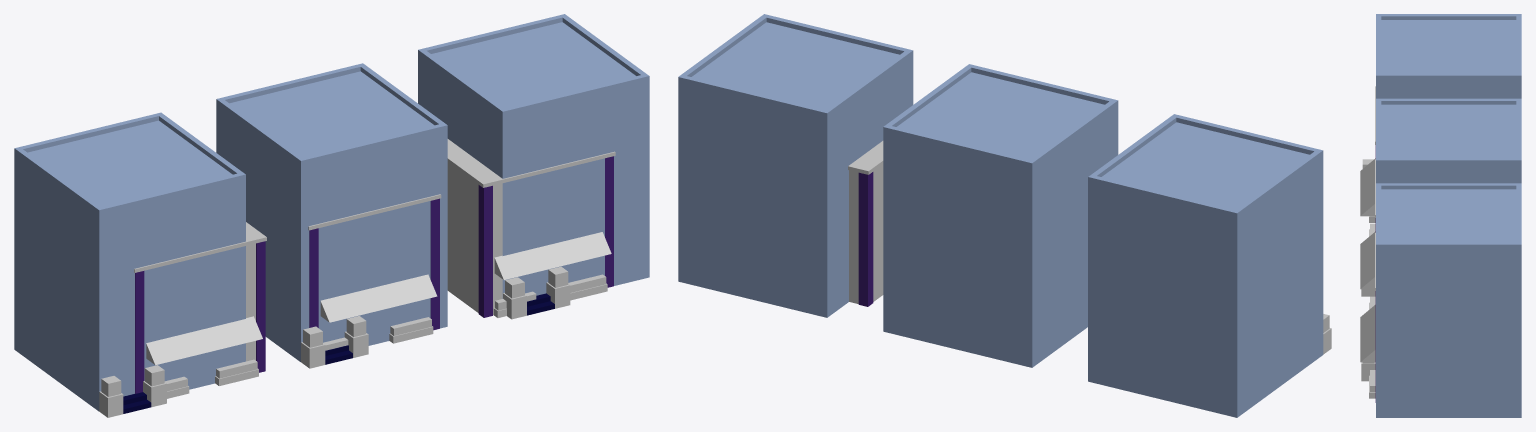
Rendered from Predio.fbx.
3 renders of one model, left to right at view 1: azimuth 30°, elevation 25°; view 2: azimuth 150°, elevation 25°; view 3: azimuth 270°, elevation 25°, orthographic. The views are drawn at different scales.
Visible parts, largest first — view 1: Cube.011, Cube.002, Cube.004, Cube.017, Cube.018, Cube.019, Cube.008, Cube.015, Cube.014, Cube.007, Cube.013, Cube.010 (+6 smaller); view 2: Cube.011, Cube.002, Cube.004, Cube.017, Cube.018; view 3: Cube.004, Cube.002, Cube.011, Cube.019, Cube.008, Cube.015, Cube.000, Cube.020.
Part boxes in pixels (box(x1,y1,x2,y2)): Cube.011: box(14, 112, 245, 411); Cube.002: box(216, 63, 447, 361); Cube.004: box(418, 14, 649, 298); Cube.017: box(447, 139, 615, 315); Cube.018: box(478, 156, 613, 317); Cube.019: box(494, 232, 611, 279); Cube.008: box(320, 274, 437, 322); Cube.015: box(146, 316, 262, 365); Cube.014: box(135, 241, 265, 393); Cube.007: box(309, 198, 439, 330); Cube.013: box(134, 222, 266, 361); Cube.010: box(99, 365, 166, 417); Cube.011: box(1088, 114, 1323, 417); Cube.002: box(883, 64, 1118, 367); Cube.004: box(678, 14, 913, 317); Cube.017: box(848, 141, 883, 303); Cube.018: box(858, 172, 873, 306); Cube.004: box(1376, 183, 1521, 417); Cube.002: box(1376, 98, 1521, 183); Cube.011: box(1376, 14, 1521, 98); Cube.019: box(1360, 304, 1375, 362); Cube.008: box(1360, 231, 1375, 289); Cube.015: box(1360, 158, 1375, 216); Cube.000: box(1361, 362, 1375, 381); Cube.020: box(1369, 370, 1375, 398).
Bounding box in the file's own units: 5999 × 2099 × 1773.
